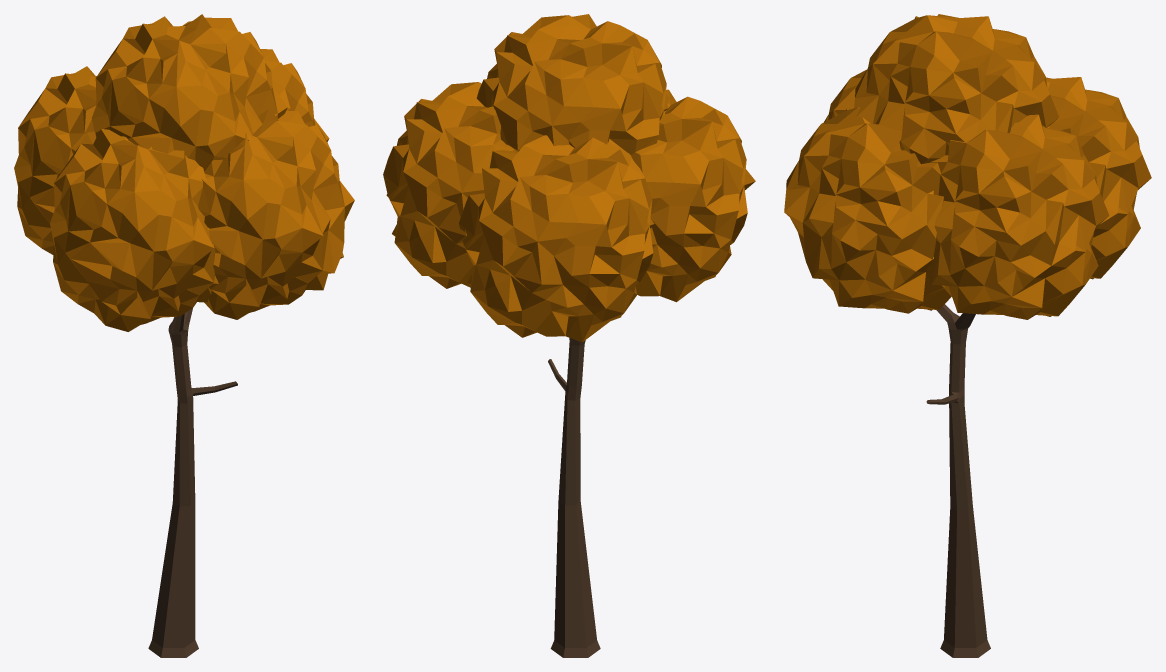
Rendered from fall tree 3.fbx.
3 renders of one model, left to right at view 1: azimuth 30°, elevation 25°; view 2: azimuth 150°, elevation 25°; view 3: azimuth 270°, elevation 25°, orthographic.
Visible parts, largest first — view 1: LowPoly Tree .007; view 2: LowPoly Tree .007; view 3: LowPoly Tree .007.
Boxes of the visible parts, x1,y1,x2,y2 form: LowPoly Tree .007: (14, 14, 354, 657); LowPoly Tree .007: (383, 14, 755, 657); LowPoly Tree .007: (784, 14, 1151, 657).
Bounding box in the file's own units: 108 × 214 × 114.
